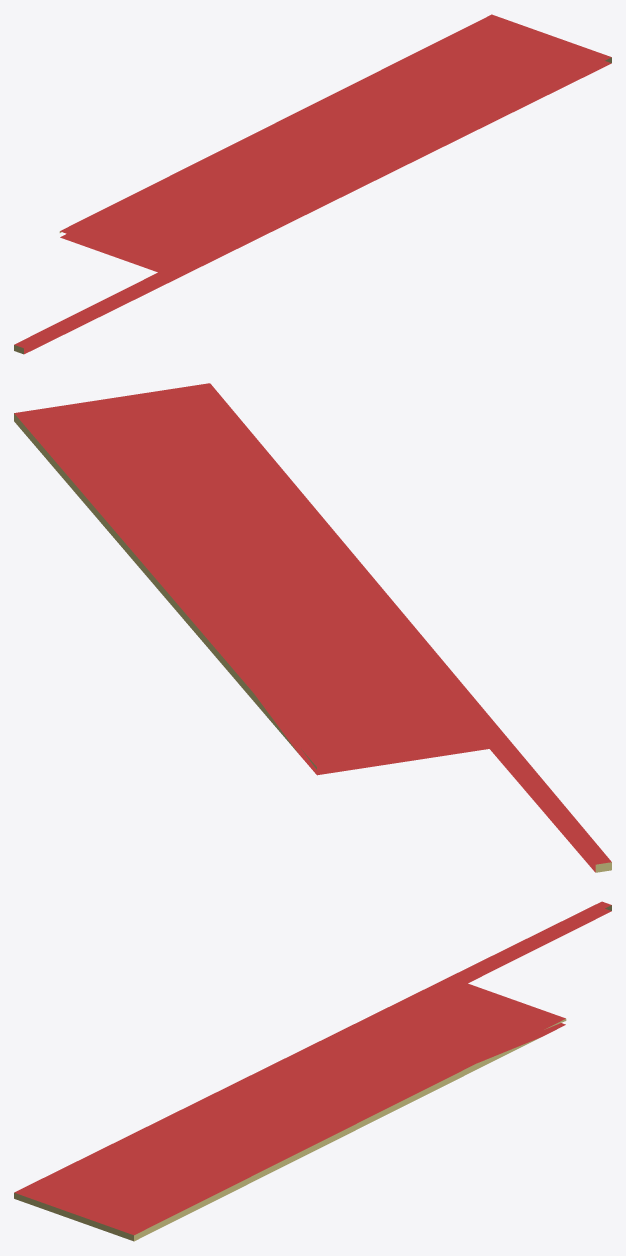
3 views of the same model, one above another, from view 1: azimuth 90°, elevation 25°; view 2: azimuth 150°, elevation 25°; view 3: azimuth 270°, elevation 25° (orthographic). The views are drawn at different scales.
Bounding box in the file's own units: 11.63 × 8.8 × 0.1.
